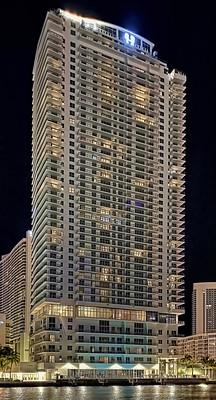building: (26, 6, 186, 376)
